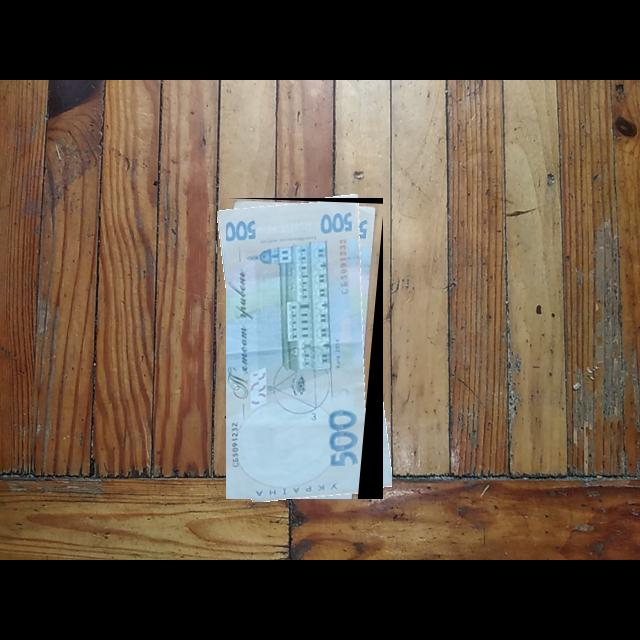500uah: (226, 198, 384, 500)
